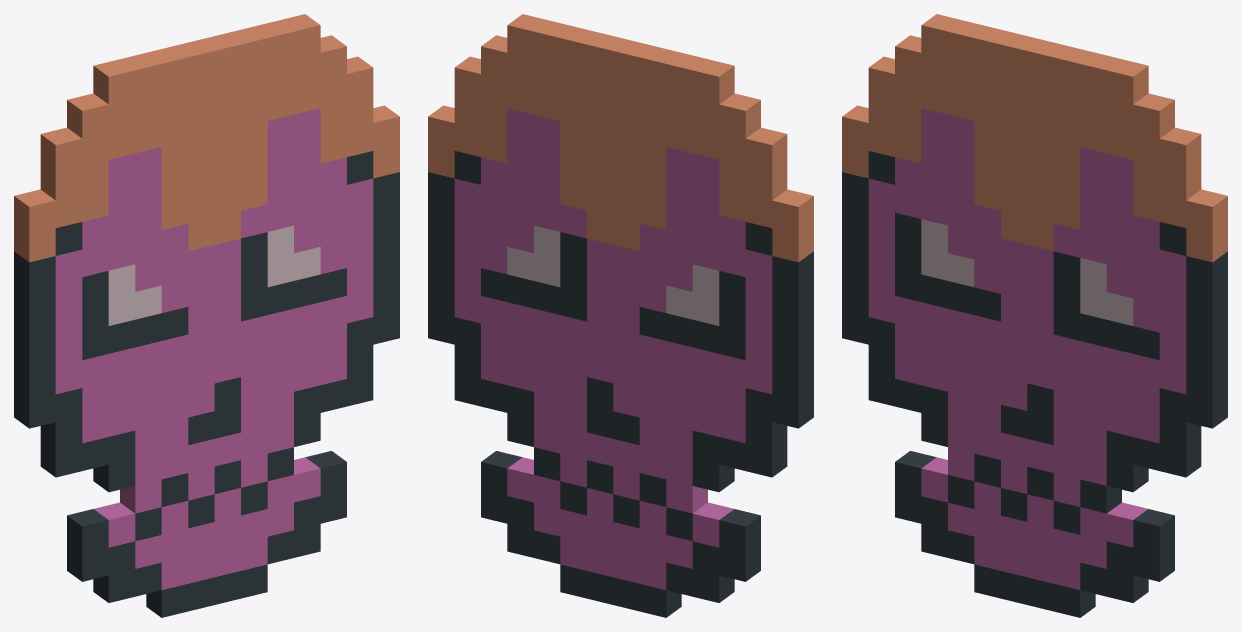
The picture shows the model from 3 angles, left to right: view 1: azimuth 30°, elevation 25°; view 2: azimuth 150°, elevation 25°; view 3: azimuth 330°, elevation 25°; orthographic projection.
Bounding box in the file's own units: 0.7 × 1 × 0.05.
